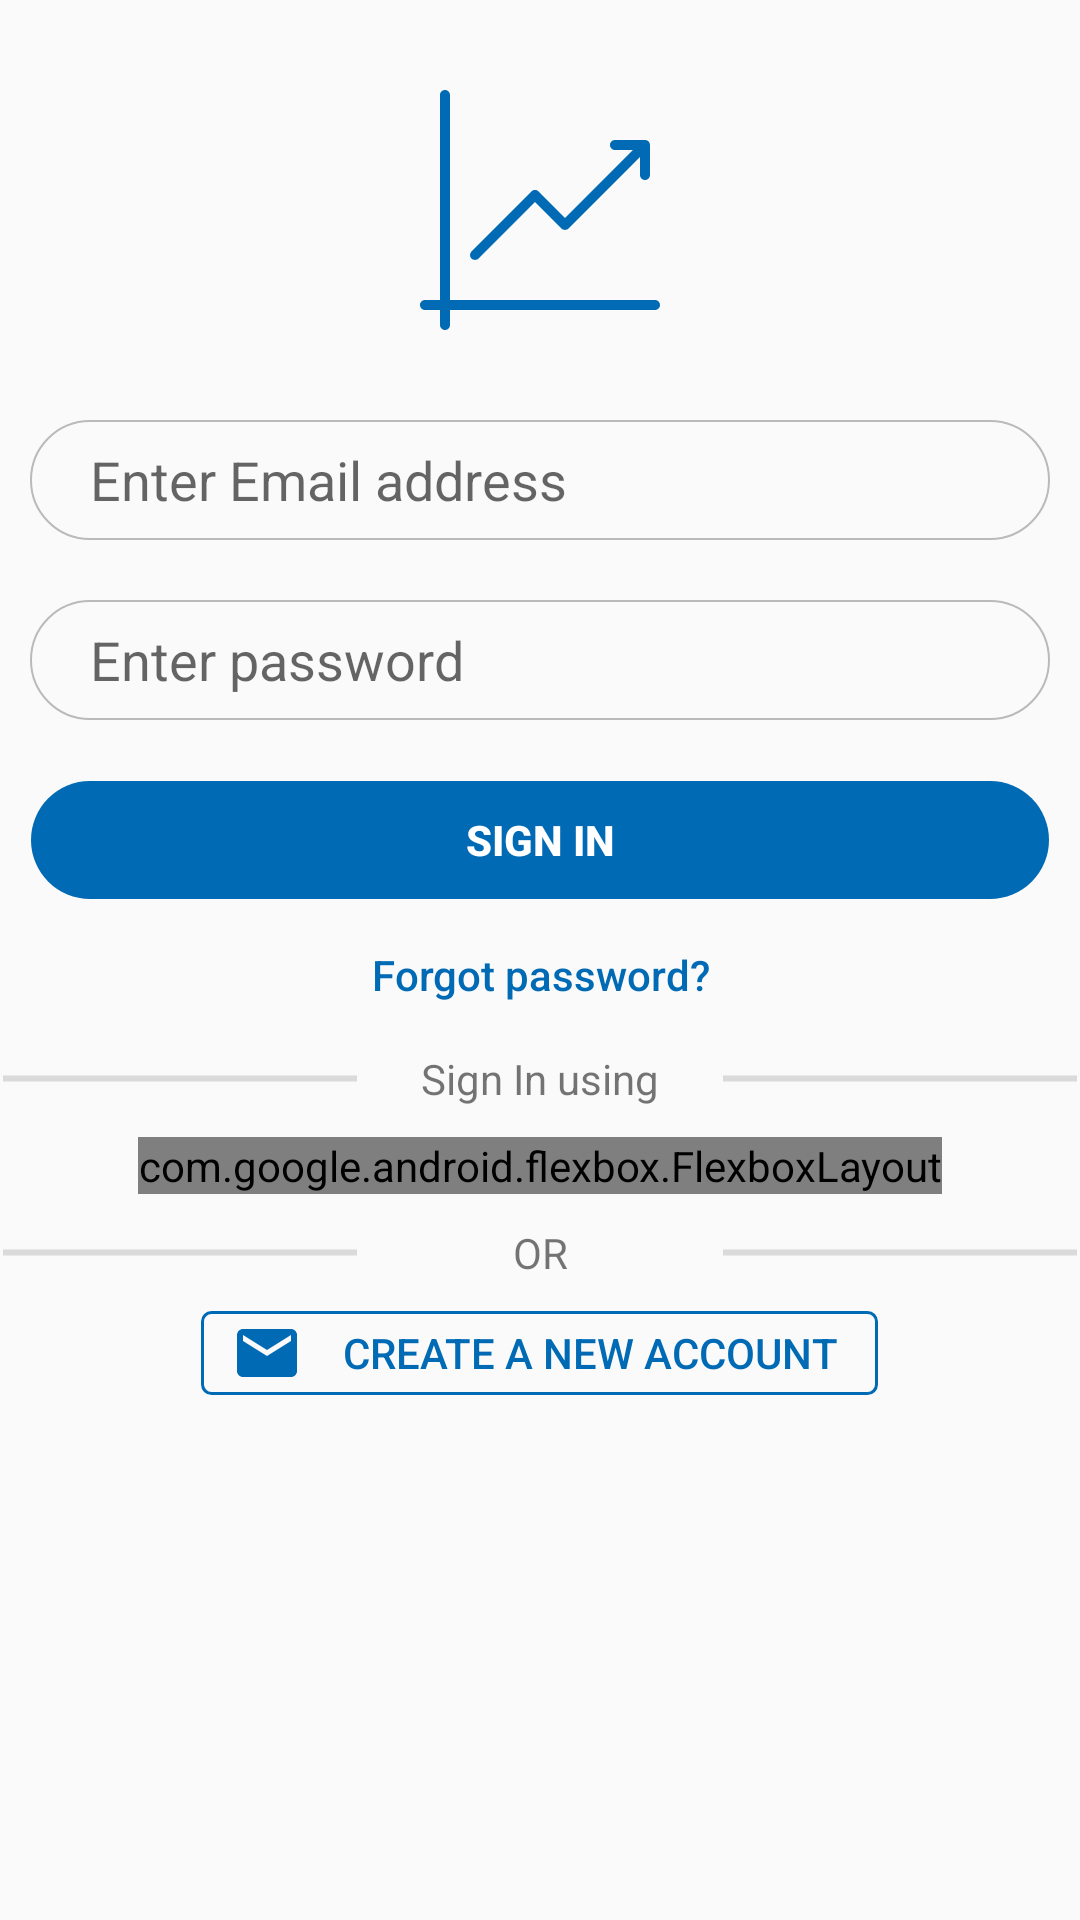

Icon click points for this 1080*1920 phone screenshot, format (x=x, y=y):
arrow chart: (x=540, y=210)
